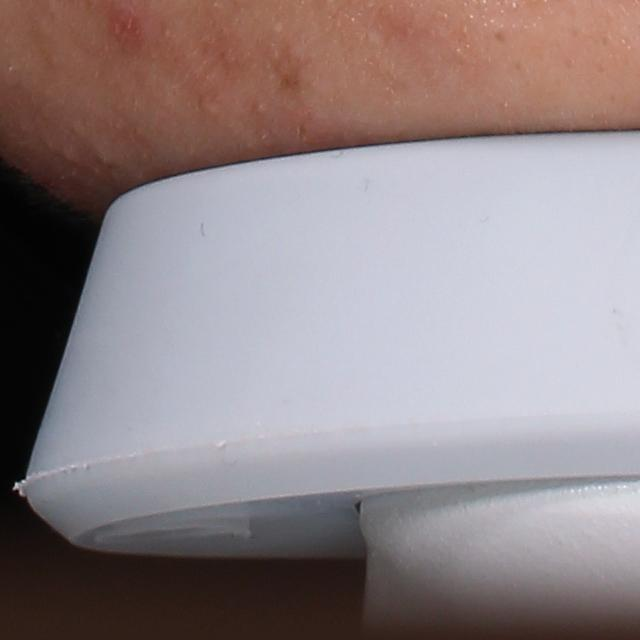papule: (112, 5, 144, 51)
